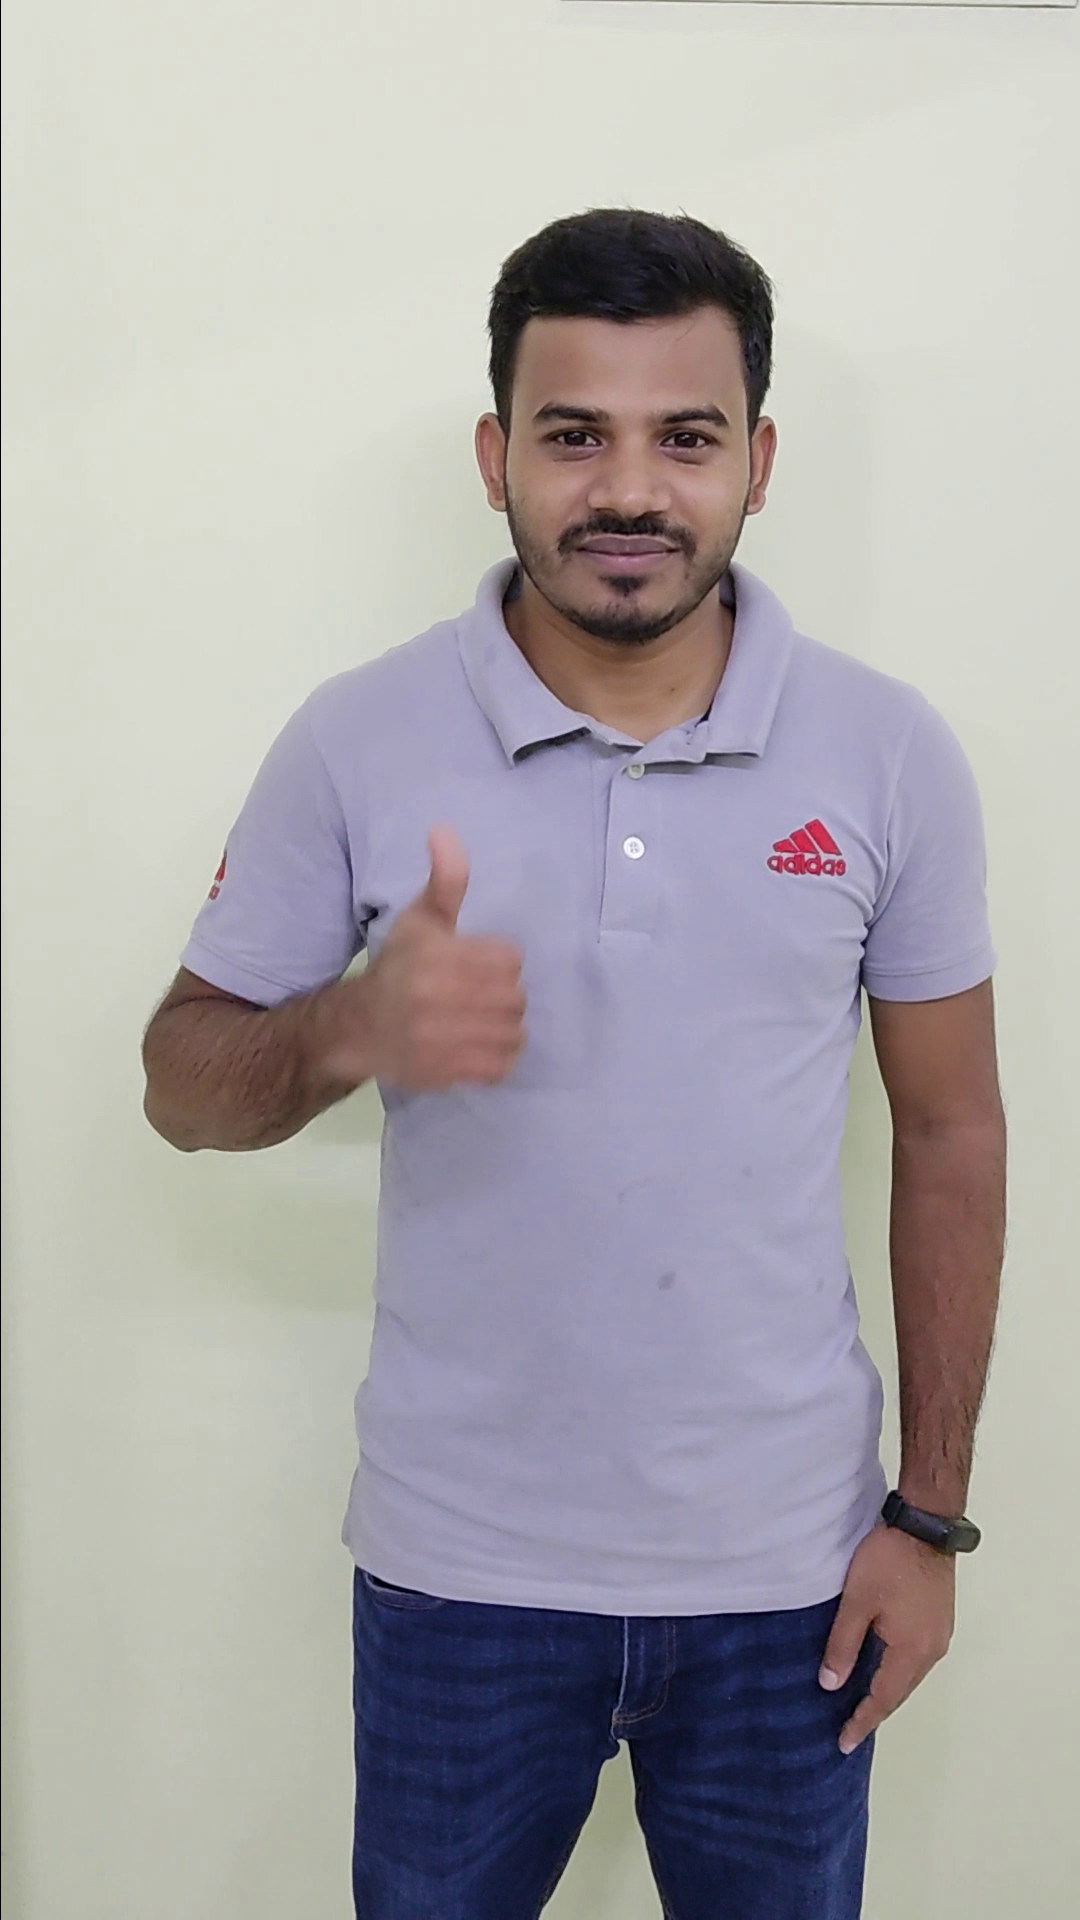Like: (318, 806, 551, 1113)
None: (800, 1466, 996, 1764)
